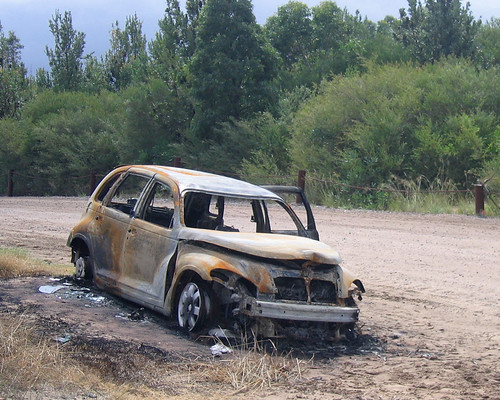car: (65, 162, 383, 362)
road: (1, 192, 500, 373)
vegetation: (1, 23, 500, 203)
